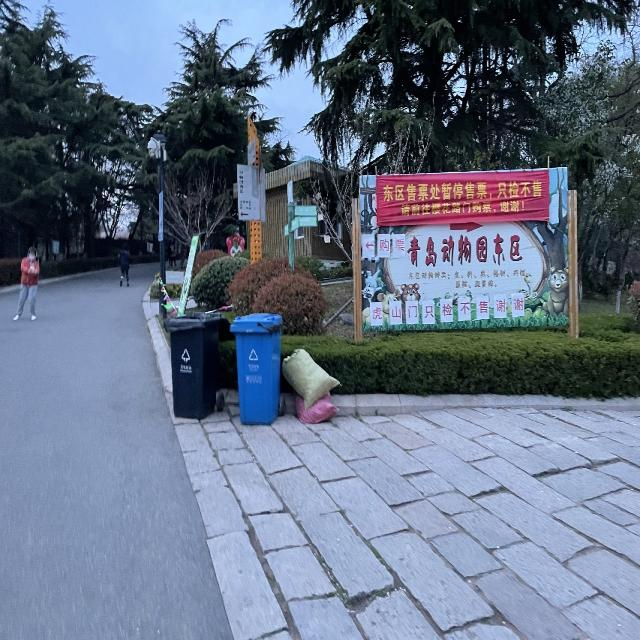garbage: (282, 347, 341, 424)
garbage_bin: (164, 311, 224, 419), (229, 313, 281, 424)
